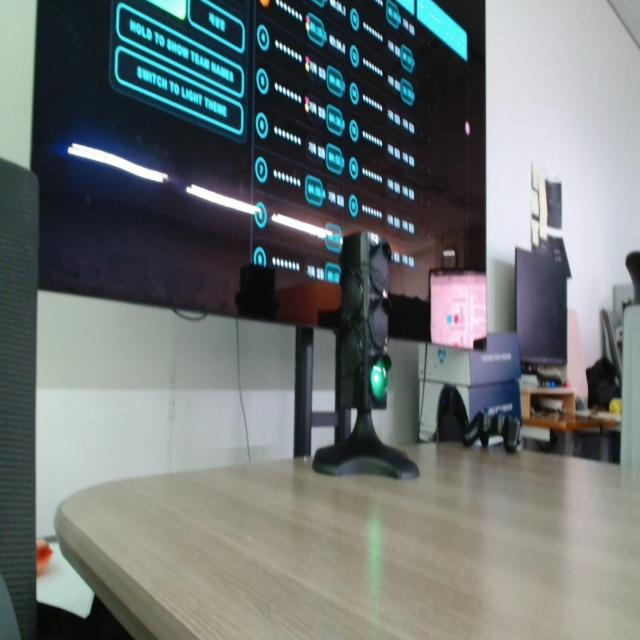green_light: (371, 360, 387, 401)
